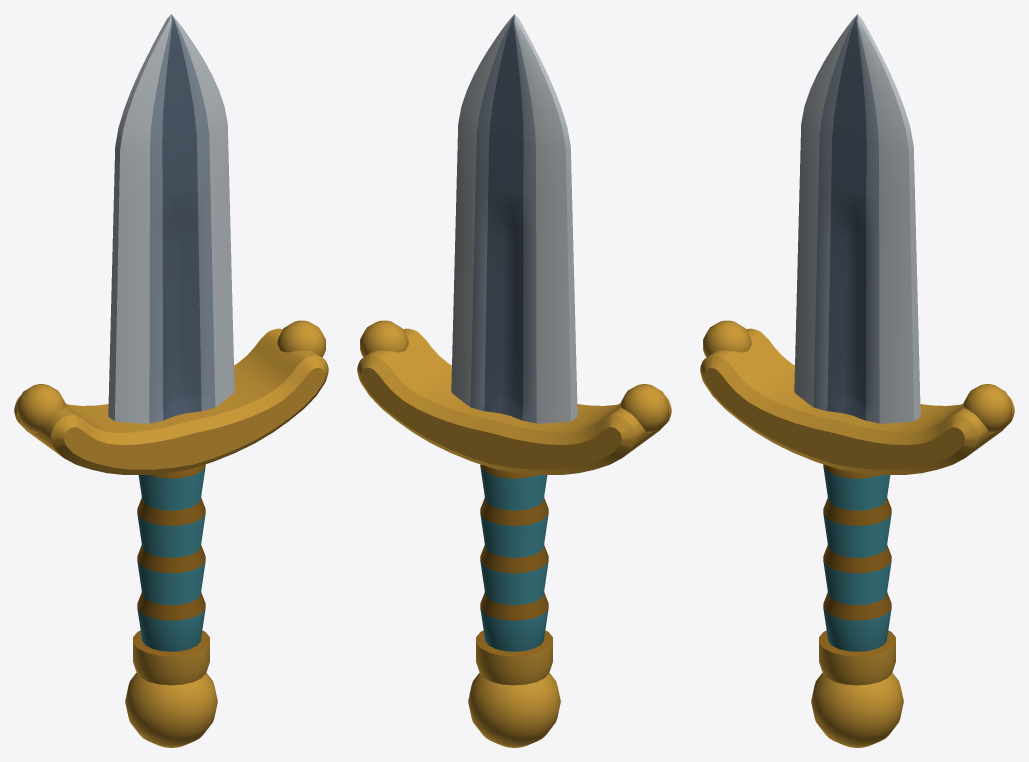
The model's file is Dagger_19.glb.
The picture shows the model from 3 angles, left to right: view 1: azimuth 30°, elevation 25°; view 2: azimuth 150°, elevation 25°; view 3: azimuth 330°, elevation 25°; orthographic projection.
Visible parts, largest first — view 1: Dagger_19; view 2: Dagger_19; view 3: Dagger_19.
Boxes of the visible parts, x1=… form: Dagger_19: x1=14, y1=14, x2=328, y2=747; Dagger_19: x1=357, y1=14, x2=671, y2=747; Dagger_19: x1=700, y1=14, x2=1014, y2=747.
Size of the model in its own units: 1.66 by 3.83 by 0.442.
